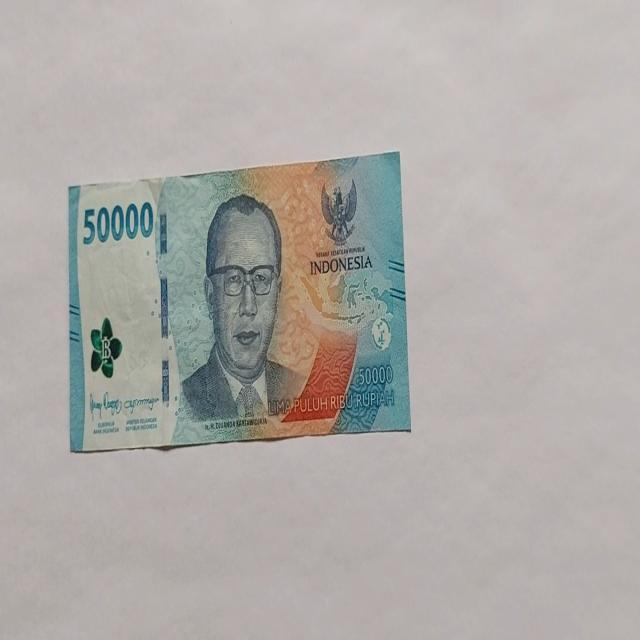lima puluh ribu rupiah: (68, 150, 411, 452), (175, 191, 308, 432)
